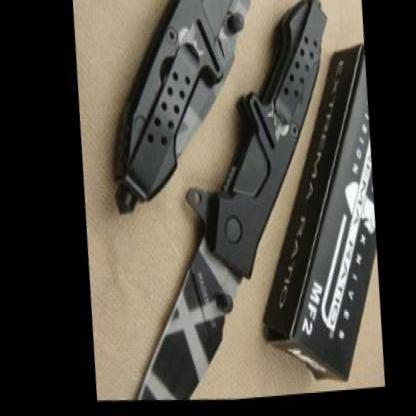knife: (90, 221, 250, 407)
